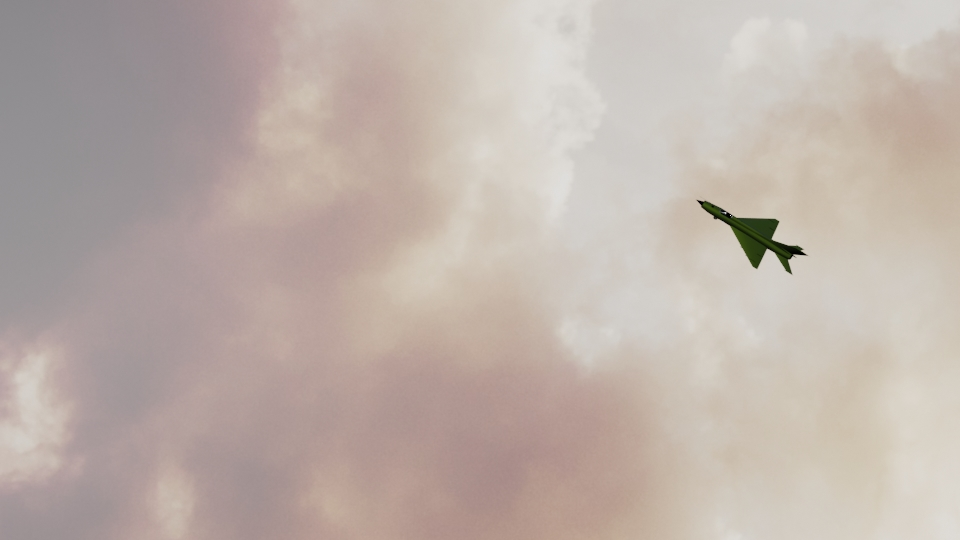plane: (698, 197, 807, 274)
